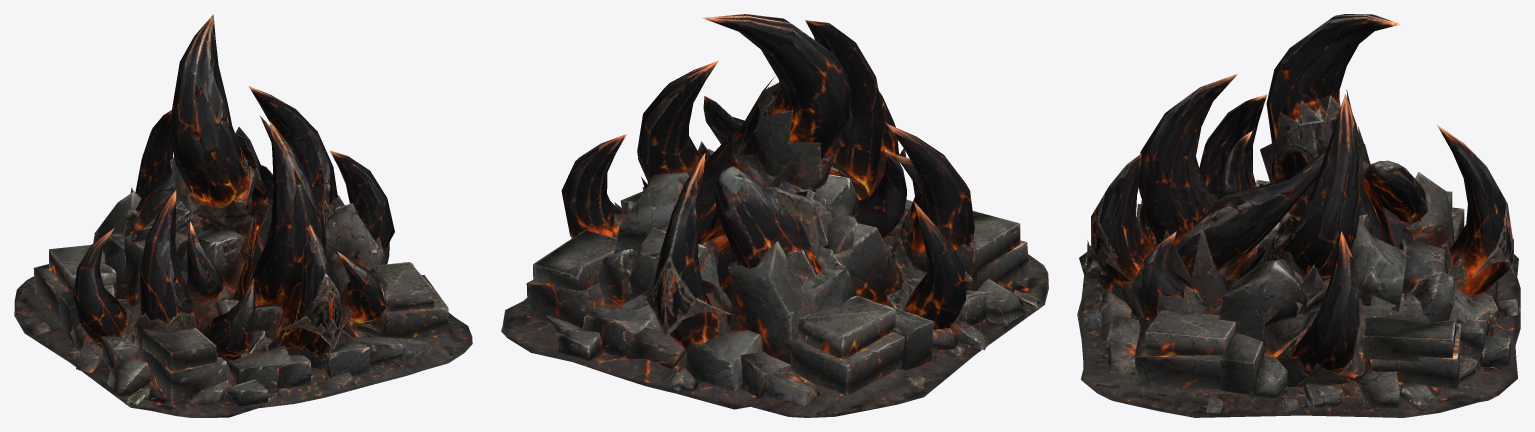
File: embercrystal-citadel.glb
3 renders of one model, left to right at view 1: azimuth 30°, elevation 25°; view 2: azimuth 150°, elevation 25°; view 3: azimuth 270°, elevation 25°, orthographic. The views are drawn at different scales.
Parts seen in each view (by area): view 1: embercrystal-citadel; view 2: embercrystal-citadel; view 3: embercrystal-citadel.
Boxes of the visible parts, x1,y1,x2,y2 form: embercrystal-citadel: [14, 14, 472, 417]; embercrystal-citadel: [501, 14, 1048, 417]; embercrystal-citadel: [1077, 14, 1520, 417].
Bounding box in the file's own units: 1 × 0.7852 × 1.
1 material, 1 textured.
